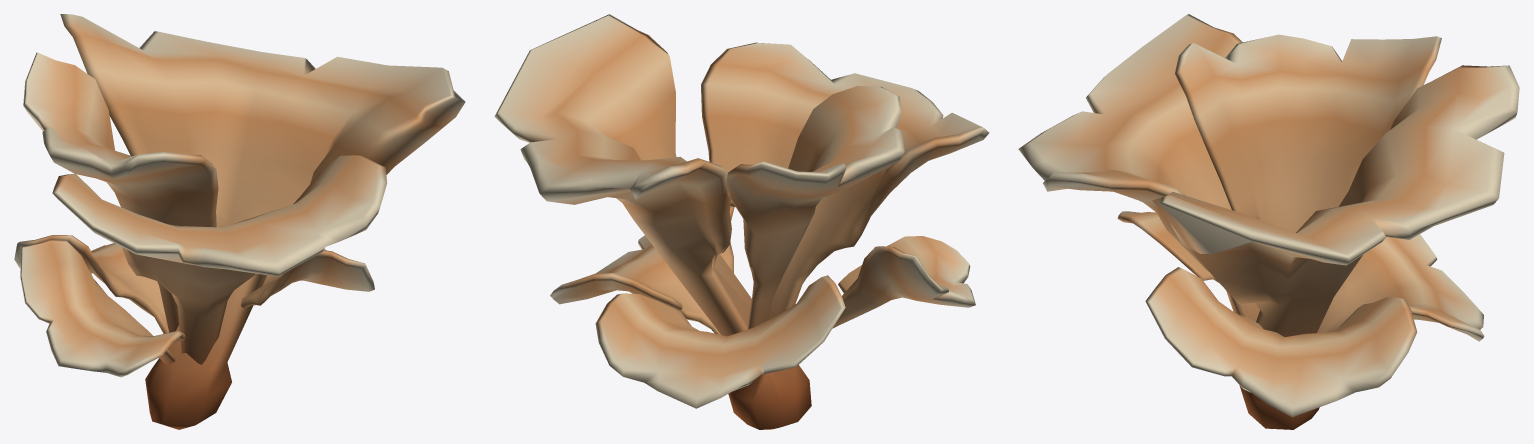
Rendered from plants-mushrooms-oyster-mushroom_v3.glb.
The picture shows the model from 3 angles, left to right: view 1: azimuth 30°, elevation 25°; view 2: azimuth 150°, elevation 25°; view 3: azimuth 270°, elevation 25°; orthographic projection. The views are drawn at different scales.
Visible parts, largest first — view 1: Oyster Mushroom_v3; view 2: Oyster Mushroom_v3; view 3: Oyster Mushroom_v3.
Part boxes in pixels (bbox=[...]): Oyster Mushroom_v3: bbox=[14, 14, 465, 429]; Oyster Mushroom_v3: bbox=[494, 14, 989, 429]; Oyster Mushroom_v3: bbox=[1018, 14, 1519, 429].
Bounding box in the file's own units: 0.15 × 0.1145 × 0.1449.
